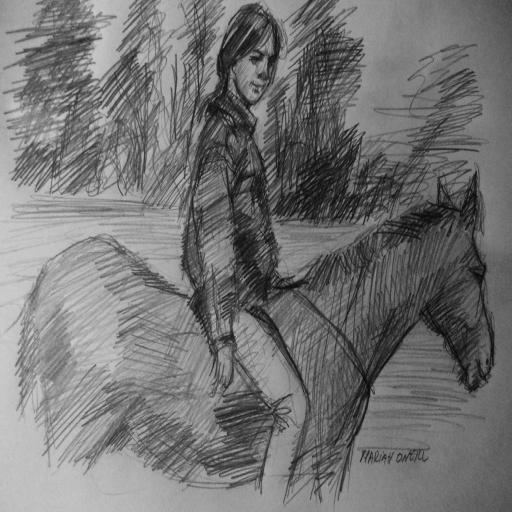horse: (16, 168, 495, 512)
